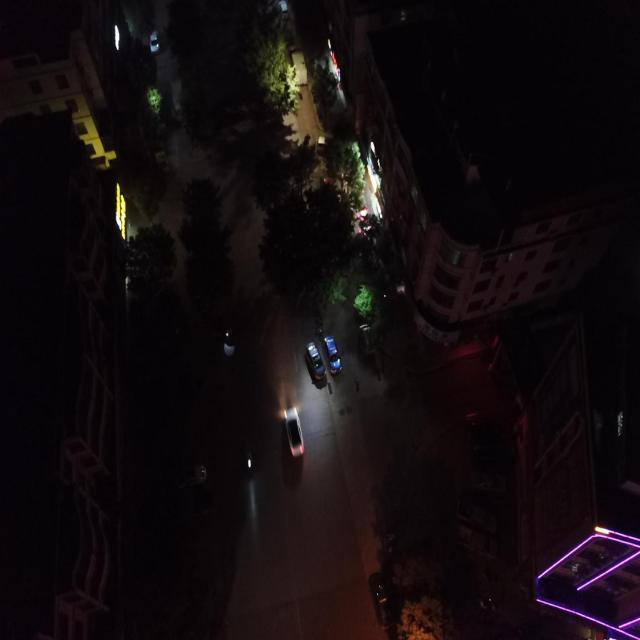car: (284, 406, 304, 458)
